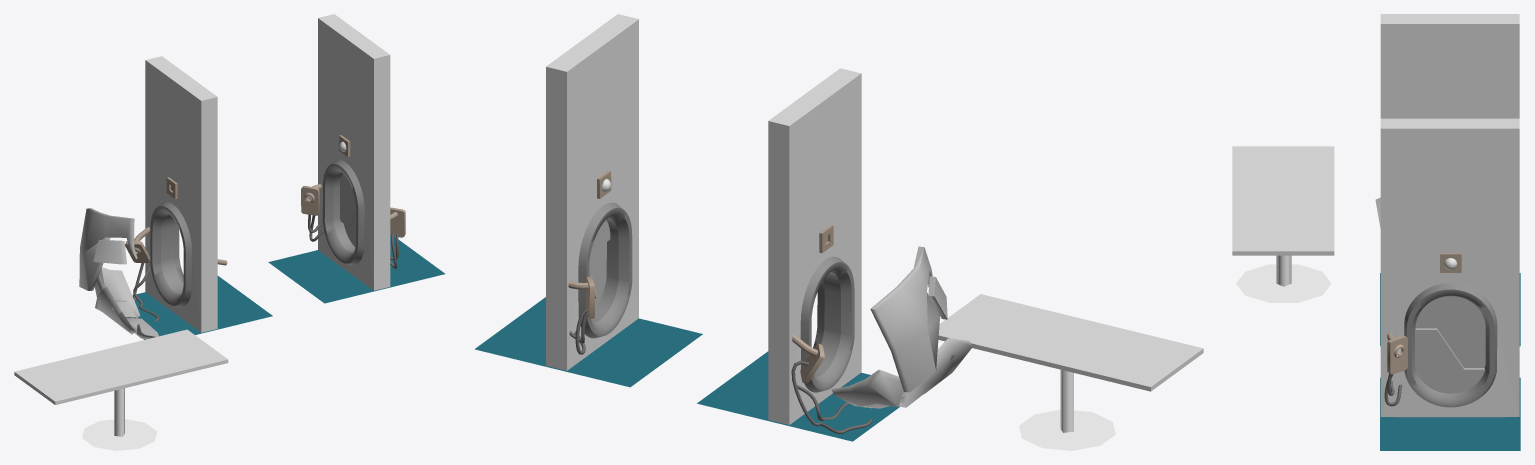
File: Props Destructibles.fbx
3 renders of one model, left to right at view 1: azimuth 30°, elevation 25°; view 2: azimuth 150°, elevation 25°; view 3: azimuth 270°, elevation 25°, orthographic. The views are drawn at different scales.
Visible parts, largest first — view 1: Cube.058, Cube.261, Plane.003, Cylinder.057, Cylinder.015, Plane.027, Cube.253, Plane.026, Cube.257, Cube.256, Cube.255, Cube.056 (+5 smaller); view 2: Cube.261, Cube.058, Plane.003, Cube.253, Cylinder.057, Plane.027, Cylinder.015, Plane.026, Cube.257, Cube.256, Cube.223, BezierCurve.004 (+1 smaller); view 3: Cube.058, Cube.261, Plane.003, Cylinder.015, Cube.056, Plane.026, Cube.054, Cube.053, Cube.223, Cube.221, Cube.203, Cube.027 (+12 smaller).
Part boxes in pixels (box(x1,y1,x2,y2)): Cube.058: box(318, 14, 390, 290); Cube.261: box(145, 56, 217, 332); Plane.003: box(268, 236, 444, 303); Cylinder.057: box(150, 202, 192, 307); Cylinder.015: box(322, 160, 364, 265); Plane.027: box(132, 276, 272, 339); Cube.253: box(79, 208, 137, 290); Plane.026: box(82, 388, 156, 450); Cube.257: box(94, 267, 140, 318); Cube.256: box(95, 286, 136, 334); Cube.255: box(93, 240, 126, 264); Cube.056: box(340, 173, 356, 226); Cube.261: box(768, 68, 861, 424); Cube.058: box(546, 14, 638, 370); Plane.003: box(474, 297, 702, 387); Cube.253: box(870, 246, 939, 392); Cylinder.057: box(800, 256, 854, 392); Plane.027: box(697, 351, 899, 441); Cylinder.015: box(578, 202, 632, 338); Plane.026: box(1019, 369, 1115, 450); Cube.257: box(831, 369, 903, 408); Cube.256: box(866, 338, 972, 408); Cube.223: box(1041, 357, 1121, 378); BezierCurve.004: box(791, 360, 872, 433); Cube.058: box(1380, 118, 1519, 416); Cube.261: box(1380, 14, 1519, 118); Plane.003: box(1380, 377, 1520, 450); Cylinder.015: box(1404, 283, 1497, 407); Cube.056: box(1415, 296, 1485, 367); Plane.026: box(1236, 255, 1331, 302); Cube.054: box(1394, 328, 1505, 417); Cube.053: box(1387, 333, 1407, 374); Cube.223: box(1307, 164, 1334, 199); Cube.221: box(1292, 192, 1321, 223); Cube.203: box(1266, 238, 1304, 255); Cube.027: box(1440, 253, 1461, 272).
Bounding box in the file's own units: 2232 × 1307 × 996.
